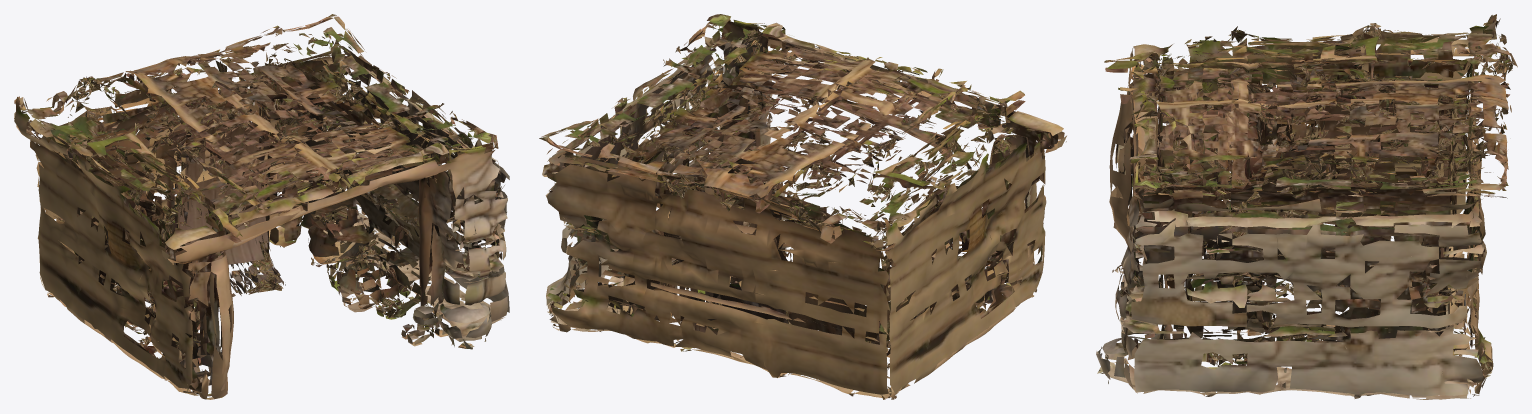
The model's file is vorratshuette.glb.
The picture shows the model from 3 angles, left to right: view 1: azimuth 30°, elevation 25°; view 2: azimuth 150°, elevation 25°; view 3: azimuth 270°, elevation 25°; orthographic projection. The views are drawn at different scales.
Size of the model in its own units: 1.99 by 1.13 by 1.91.
Materials: 1 (1 with a texture image).
